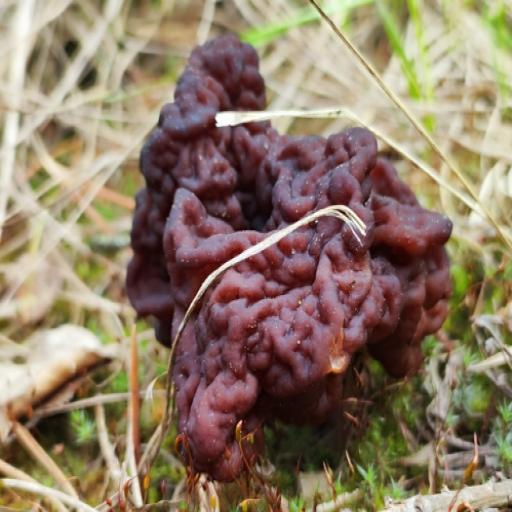mushroom: (124, 34, 448, 467)
